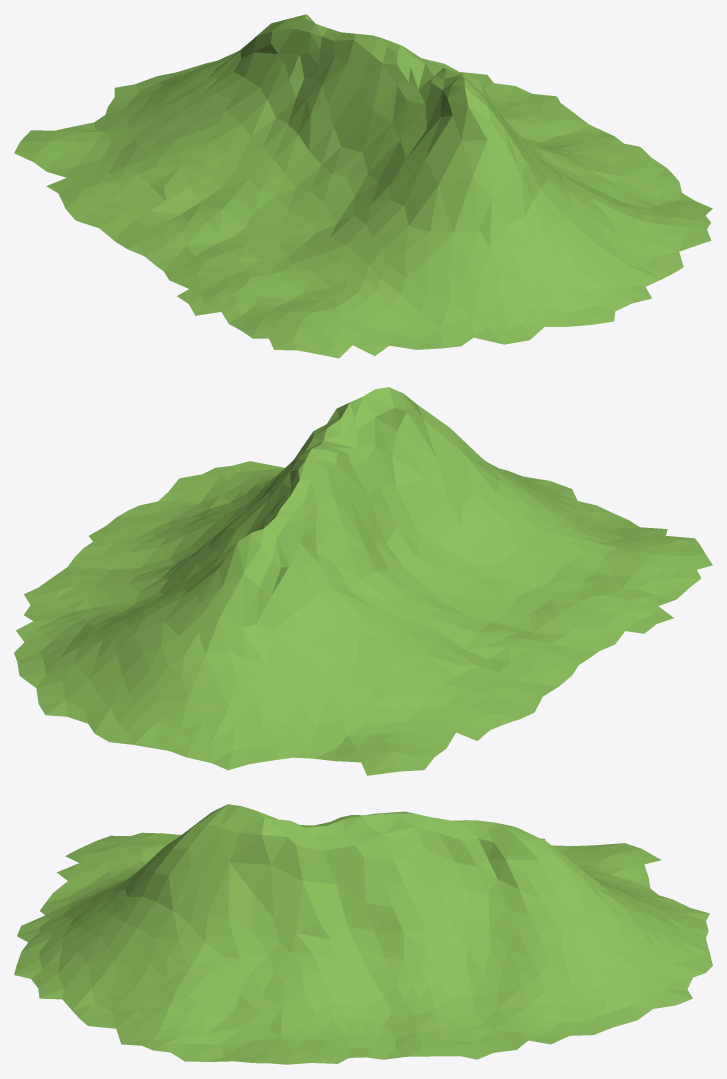
The model's file is MT_Mountain_L_a_10.fbx.
The picture shows the model from 3 angles, top to bottom: view 1: azimuth 30°, elevation 25°; view 2: azimuth 150°, elevation 25°; view 3: azimuth 270°, elevation 25°; orthographic projection. The views are drawn at different scales.
Parts seen in each view (by area): view 1: MT_Mountain_L_a_10; view 2: MT_Mountain_L_a_10; view 3: MT_Mountain_L_a_10.
Part boxes in pixels (box(x1,y1,x2,y2)): MT_Mountain_L_a_10: box(14, 14, 712, 358); MT_Mountain_L_a_10: box(14, 387, 712, 775); MT_Mountain_L_a_10: box(14, 804, 712, 1064).
Size of the model in its own units: 7656 by 2375 by 9609.
